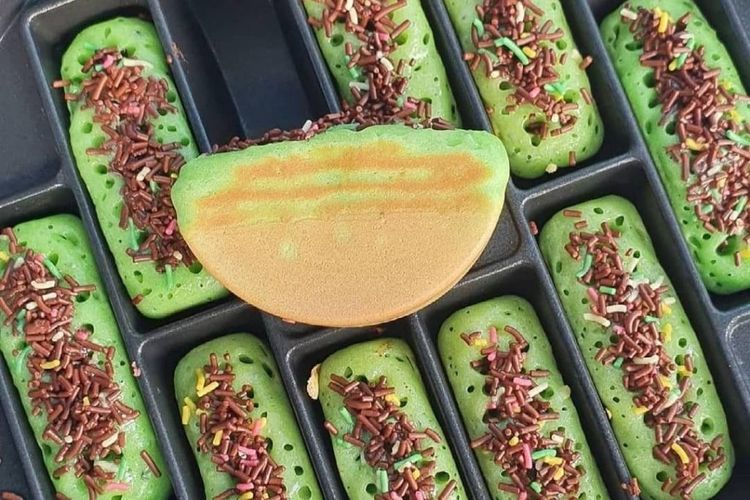pukis: (145, 125, 518, 336)
